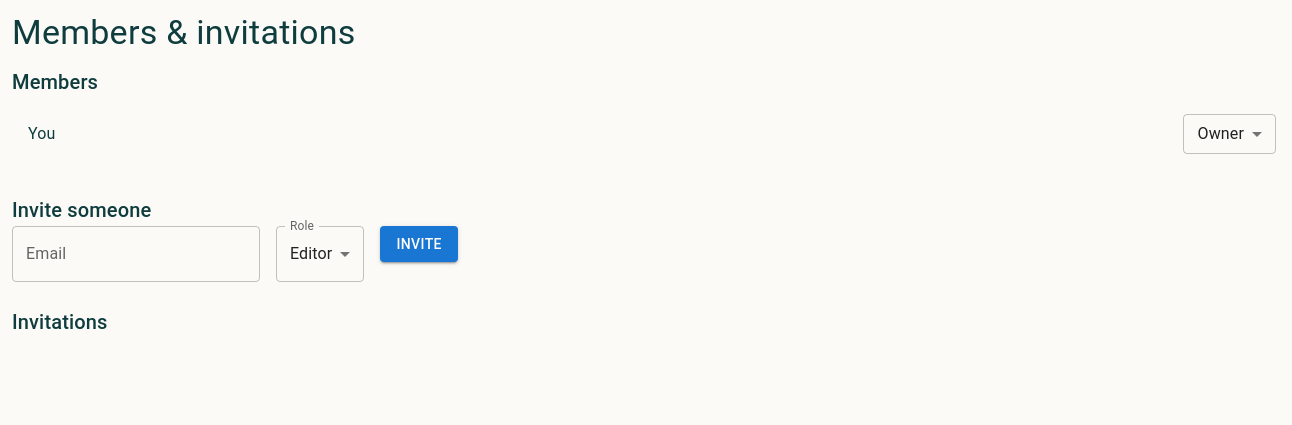
ManageMembersPage › lets an owner send an invitation and see it appear pending with a stubbed acceptance link
expect the form with test id "invite-form" is shown: met, box [12,218,458,282]
Type "friend@example.com" into the field with test id "invite-email-input" at (136, 254), box [12,226,260,282]
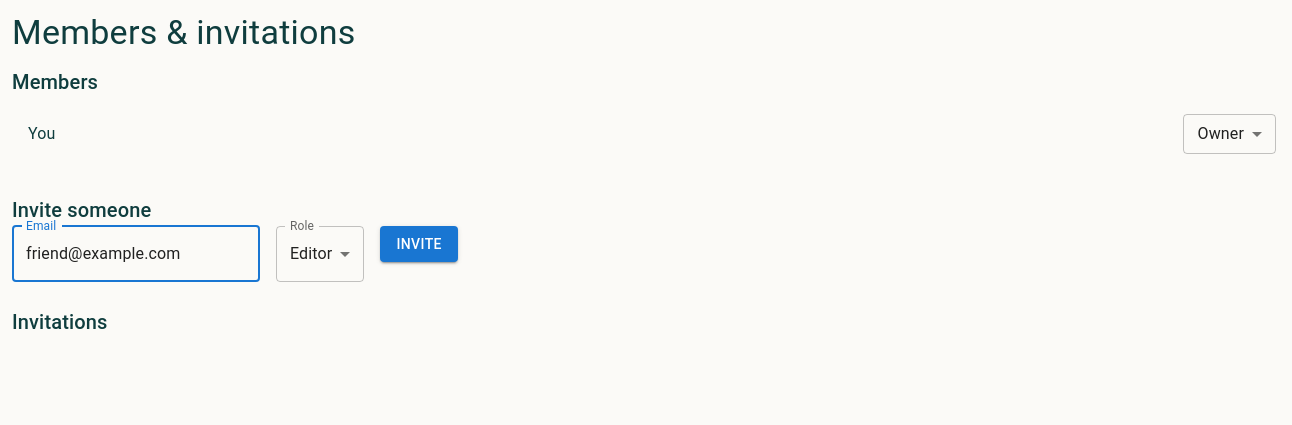
Click the button with test id "send-invite-button" at (419, 244), box [380,226,458,262]
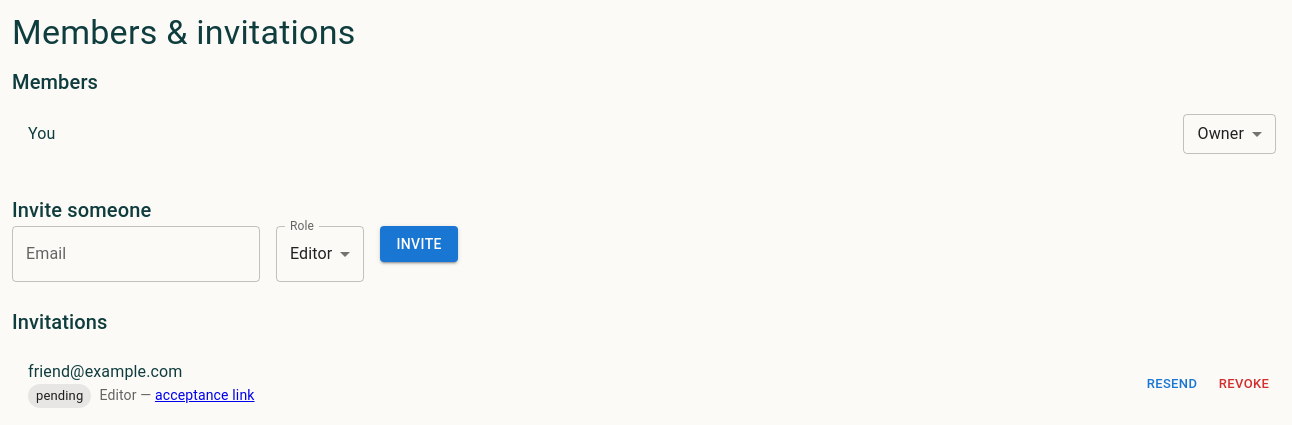
expect the text "friend@example.com" is shown: met, box [28,362,183,381]
